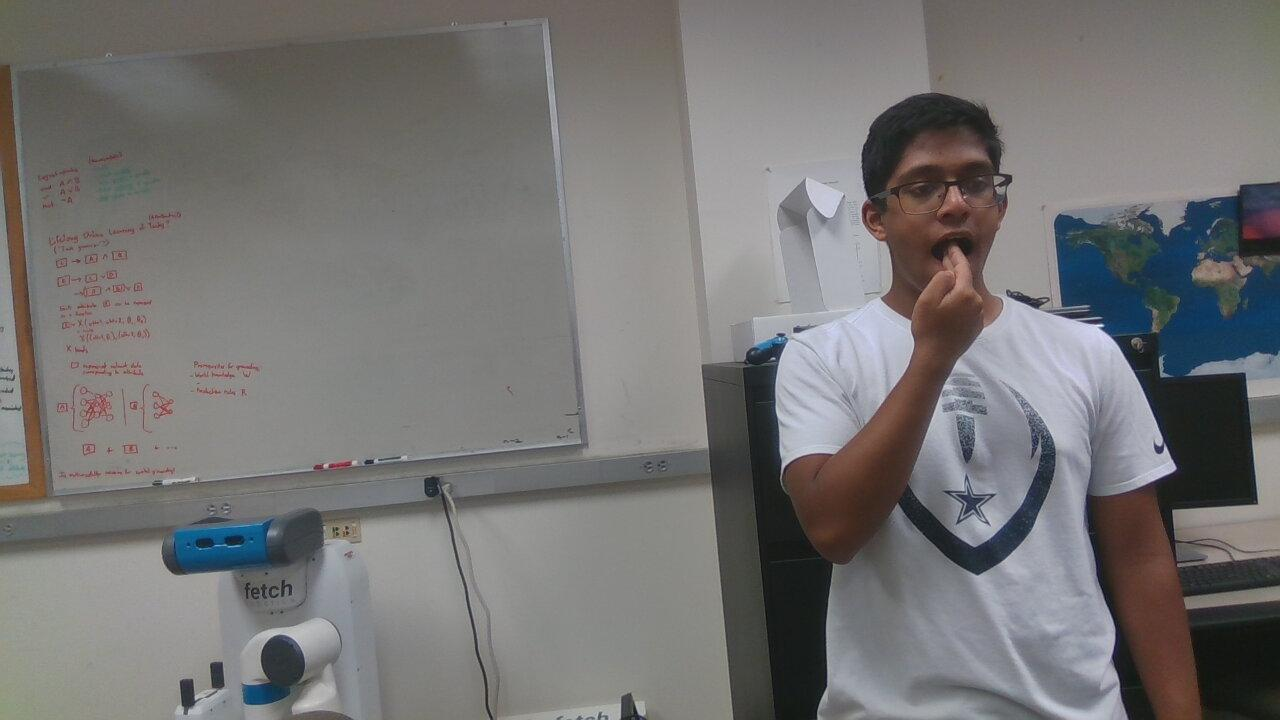hands: (907, 235, 1025, 361)
